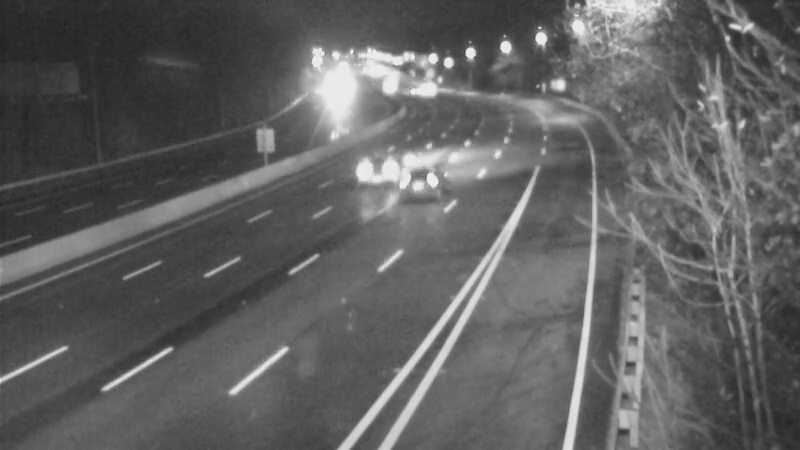vehicle: (340, 132, 420, 212), (378, 143, 458, 223), (400, 64, 450, 114), (381, 64, 431, 114)
